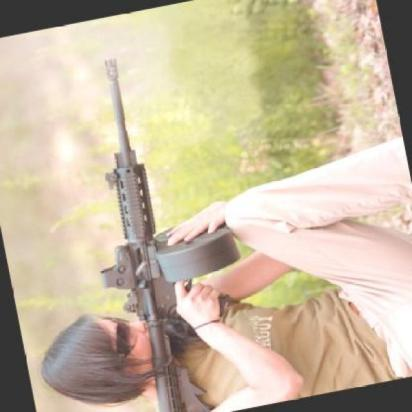Gun: (90, 39, 241, 412)
